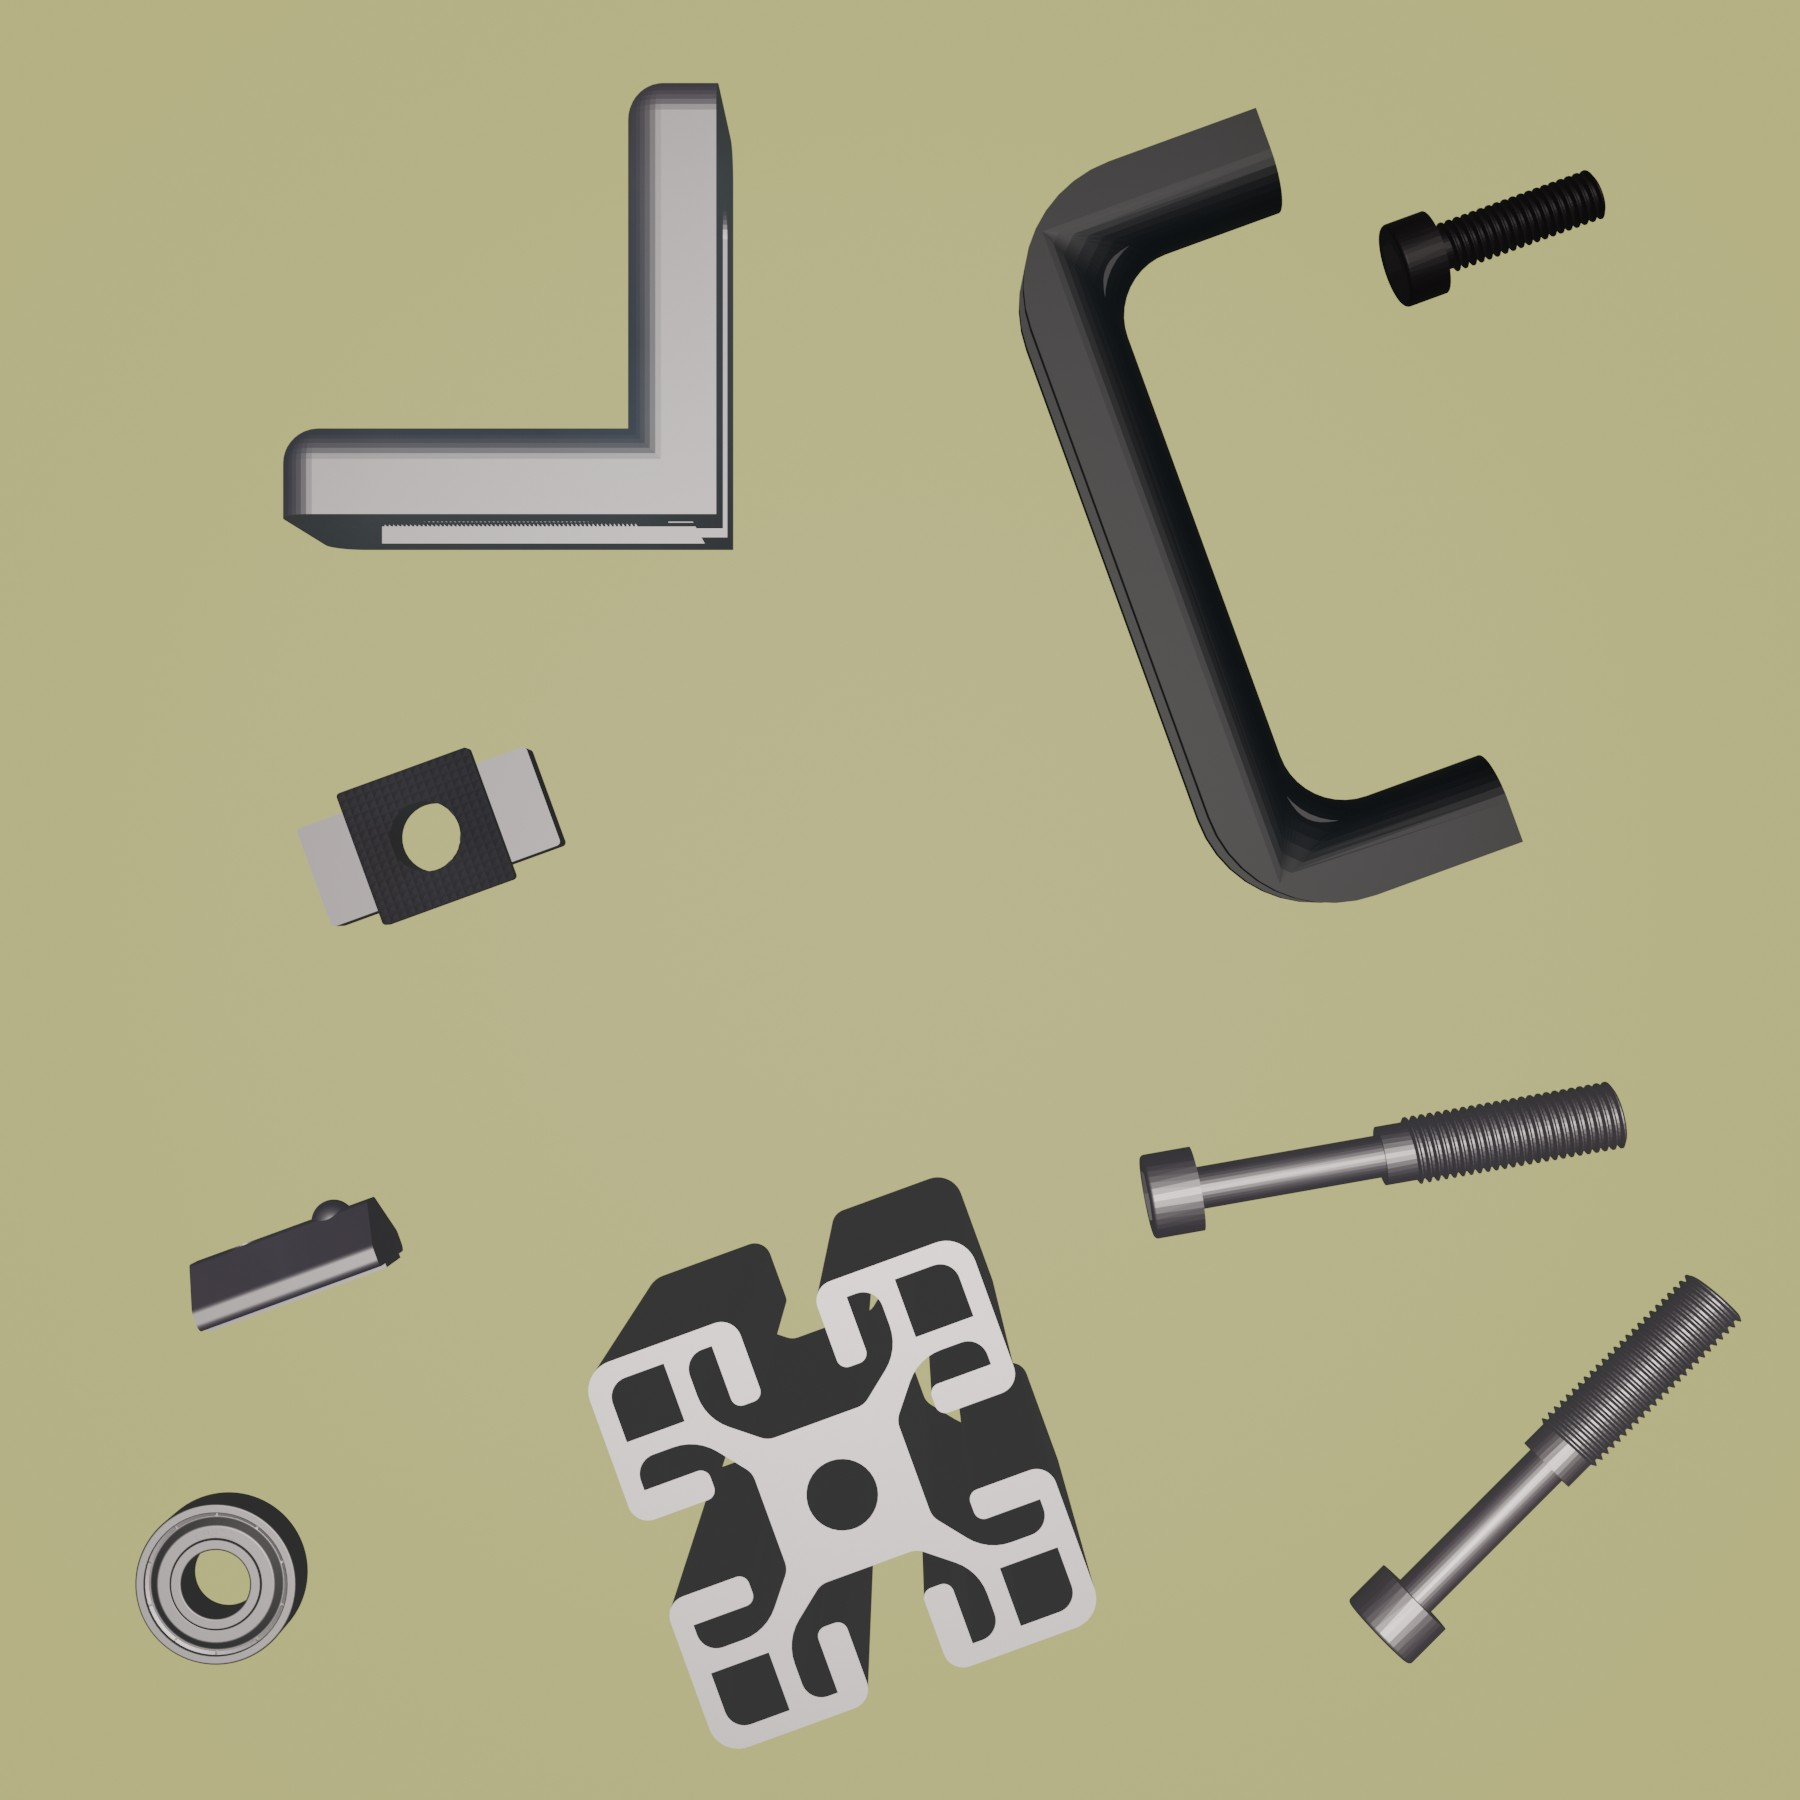Aluminium Extension: (587, 1174, 1099, 1751)
Ball Bearing: (132, 1488, 308, 1668)
Multiwinkel: (279, 77, 738, 555)
Pull Handle: (1015, 107, 1523, 903)
Shoulder Socket Head Cap Screw: (1343, 1273, 1739, 1666), (1136, 1076, 1630, 1243)
Socket Head Cap Screw: (1376, 165, 1609, 312)
T Nut Square: (300, 742, 567, 931)
T Spring Nut: (185, 1188, 405, 1337)
